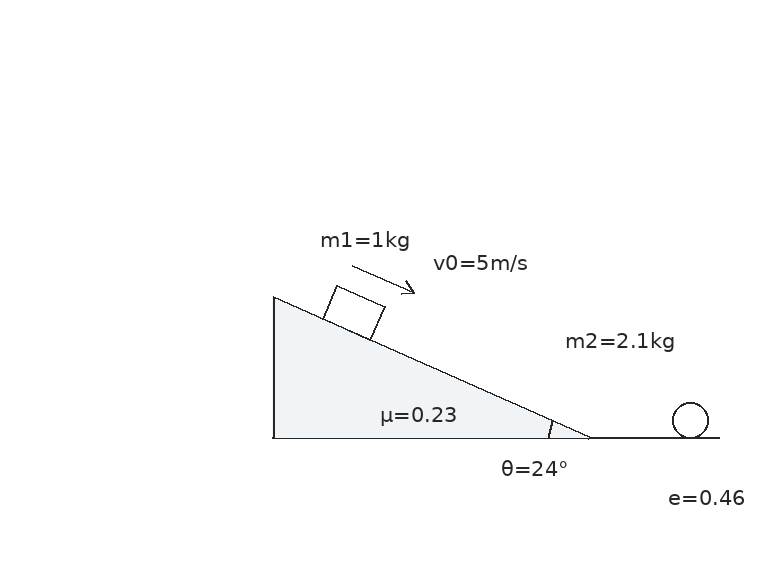ball: (670, 400, 710, 440)
block: (320, 283, 386, 342)
ramp: (271, 295, 591, 440)
